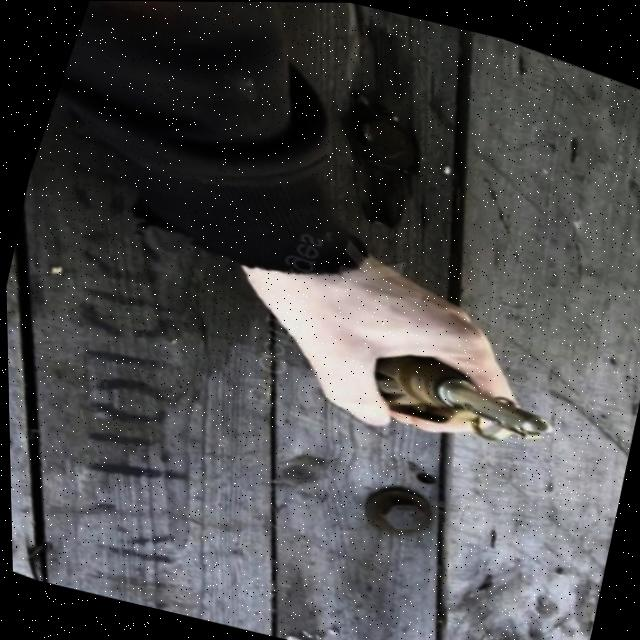grenade: (358, 336, 577, 466)
